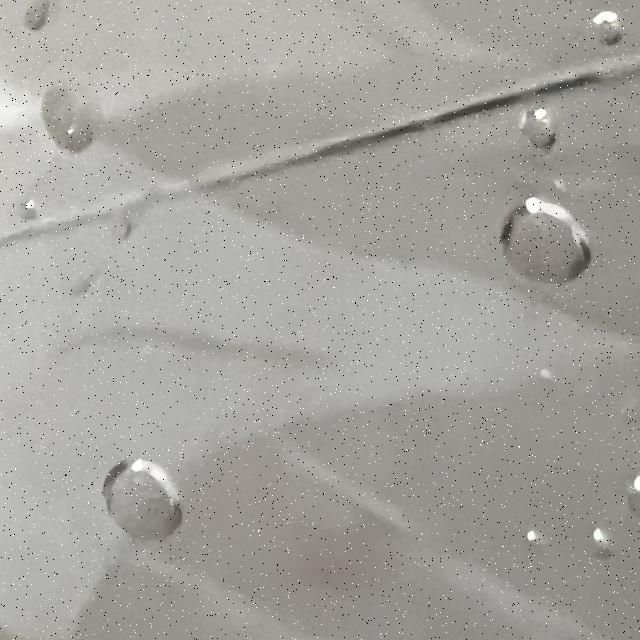raindrop: (493, 197, 601, 300), (87, 442, 191, 539), (34, 84, 100, 162), (512, 101, 578, 171), (573, 8, 622, 48), (573, 526, 619, 567), (514, 521, 568, 555), (23, 2, 59, 38)
